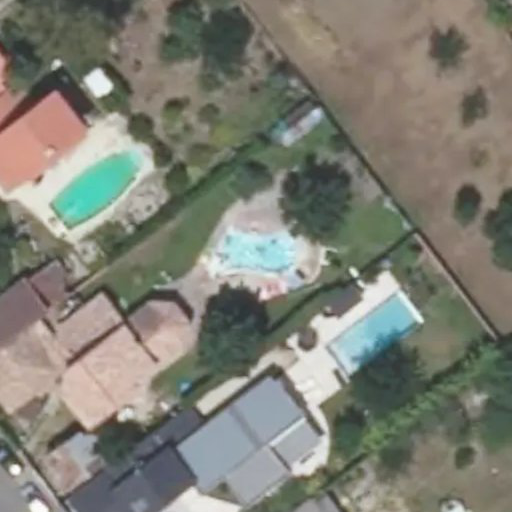pool: (210, 217, 300, 264)
